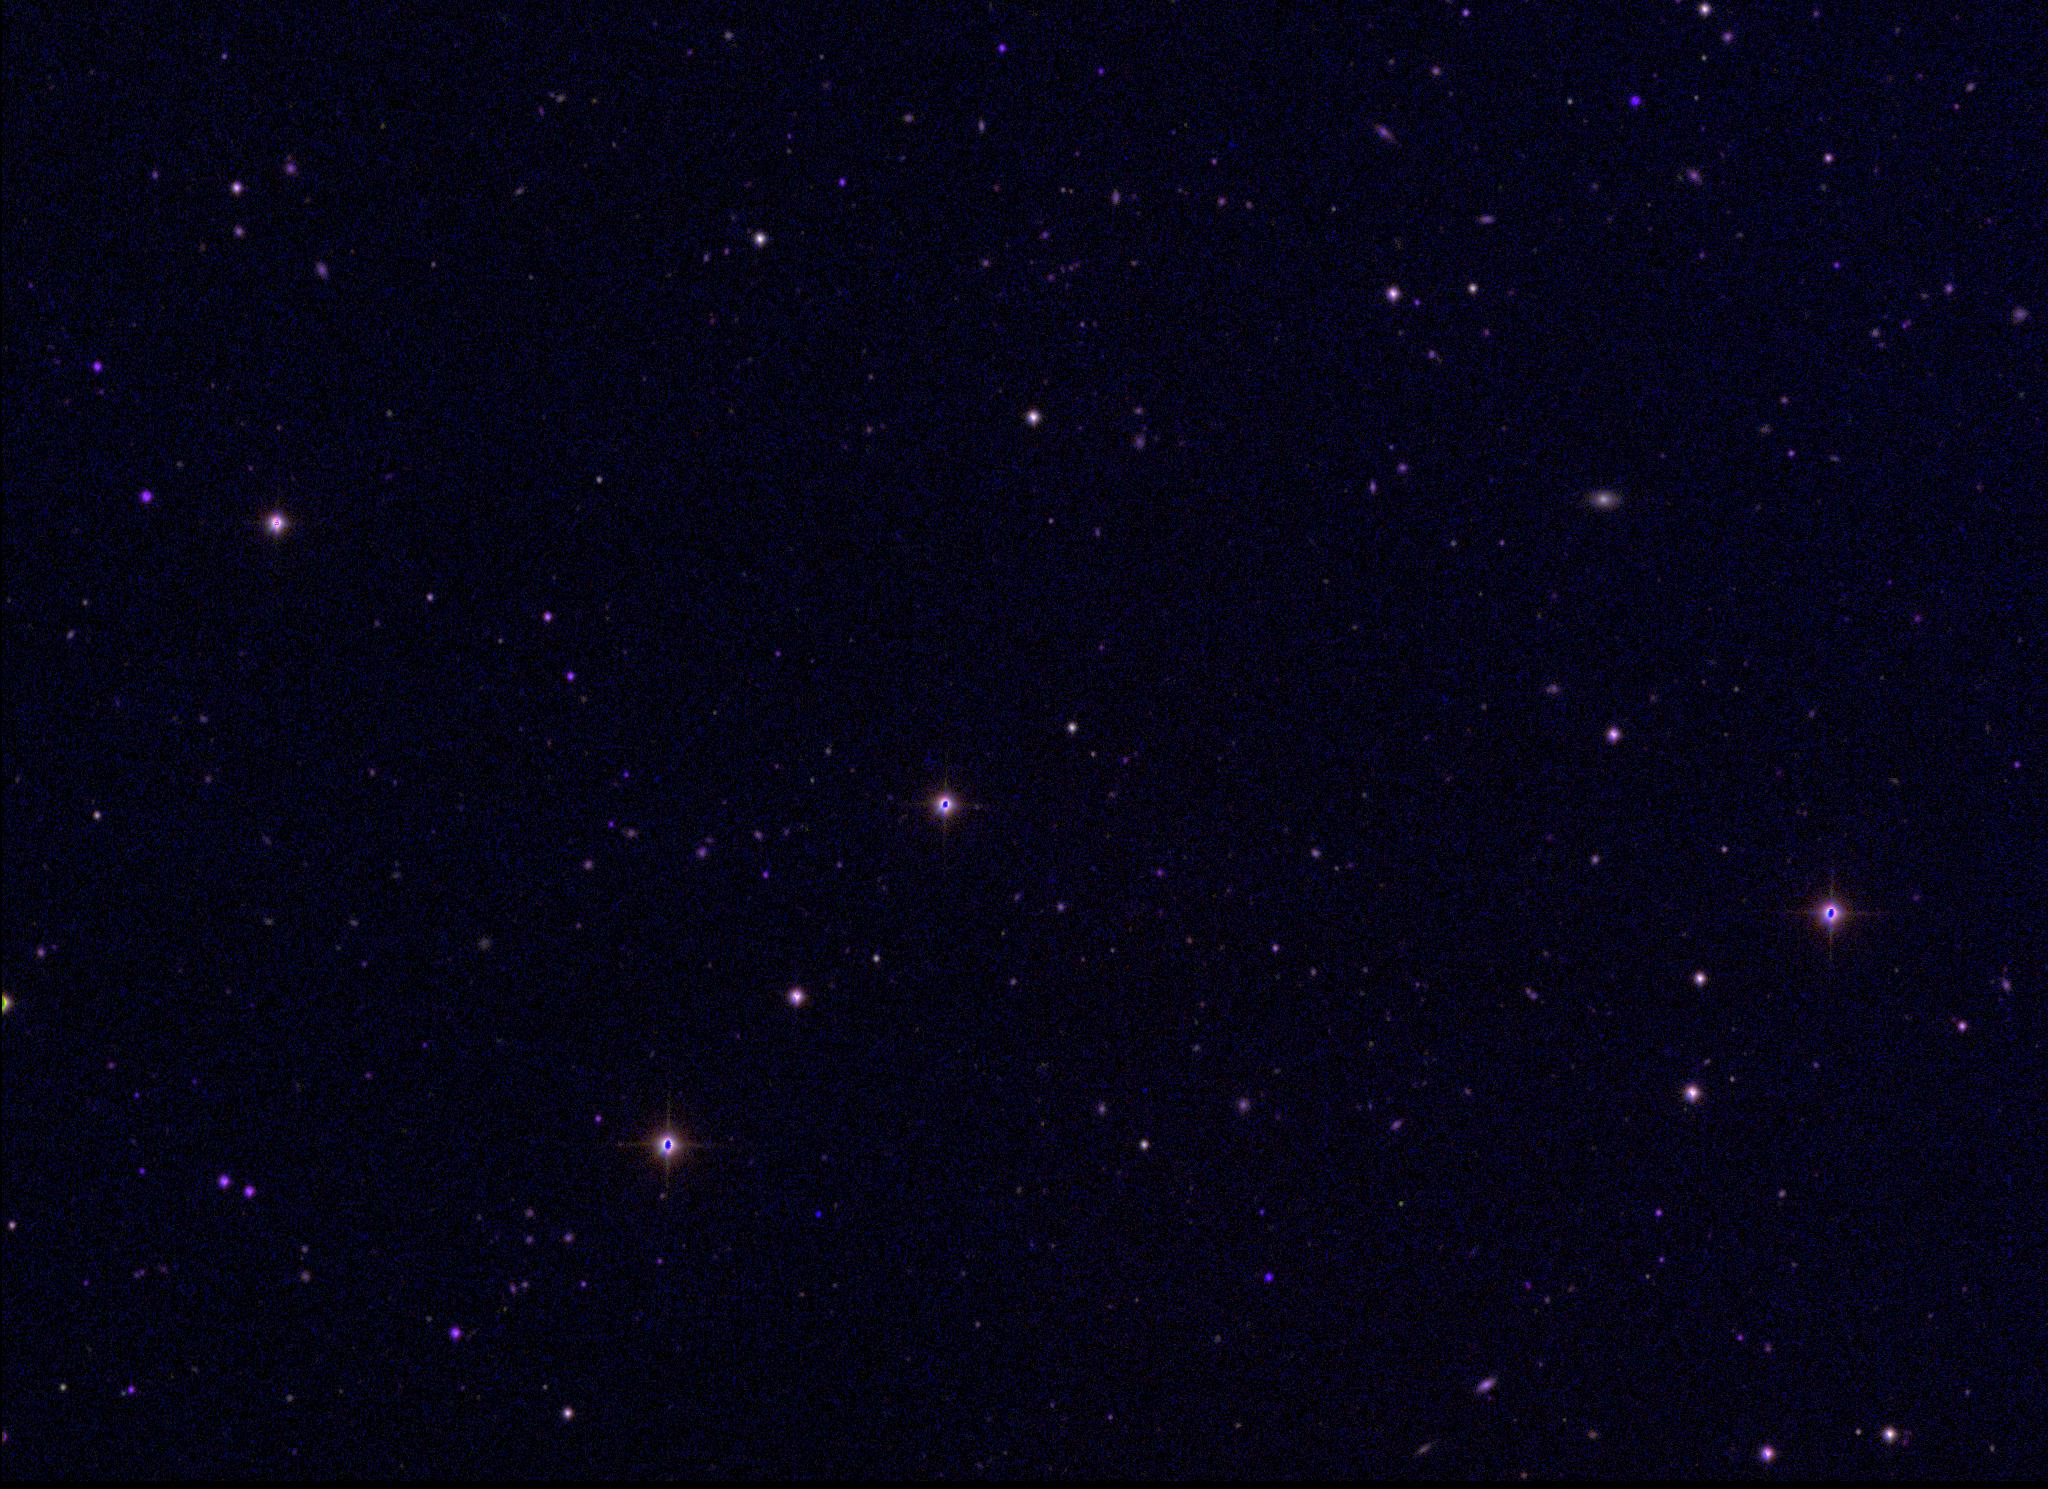L: (811, 1207, 825, 1222)
